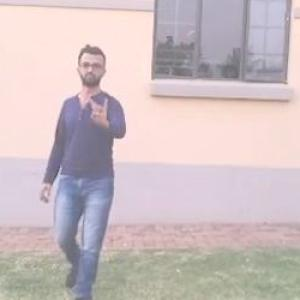takeoff-hand: (84, 94, 119, 132)
